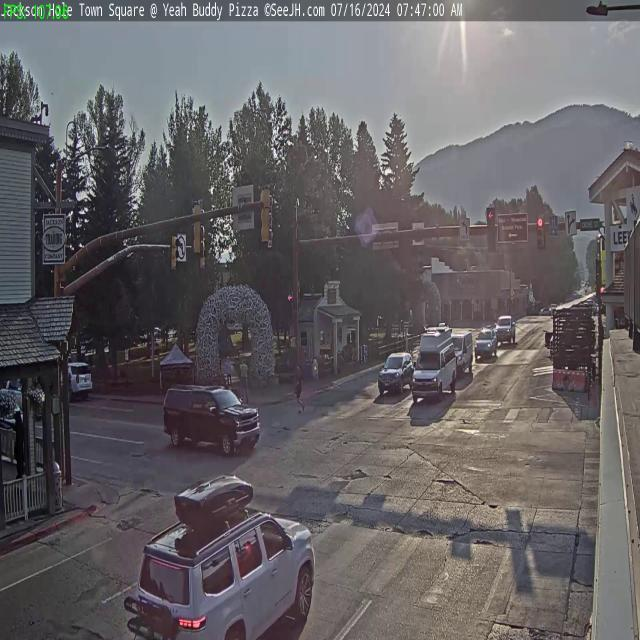person: (294, 362, 304, 414)
pickup: (496, 314, 517, 344)
sedan: (475, 326, 498, 359)
suv: (126, 510, 316, 640), (378, 350, 414, 394), (66, 359, 94, 402)
traffic light: (190, 199, 203, 256), (260, 184, 272, 244), (486, 208, 497, 254), (536, 214, 544, 249)
truck: (160, 376, 259, 461)
van: (408, 329, 458, 406), (451, 324, 476, 378)
